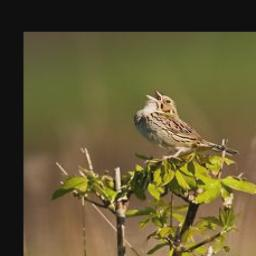Sparrow: (133, 88, 240, 162)
